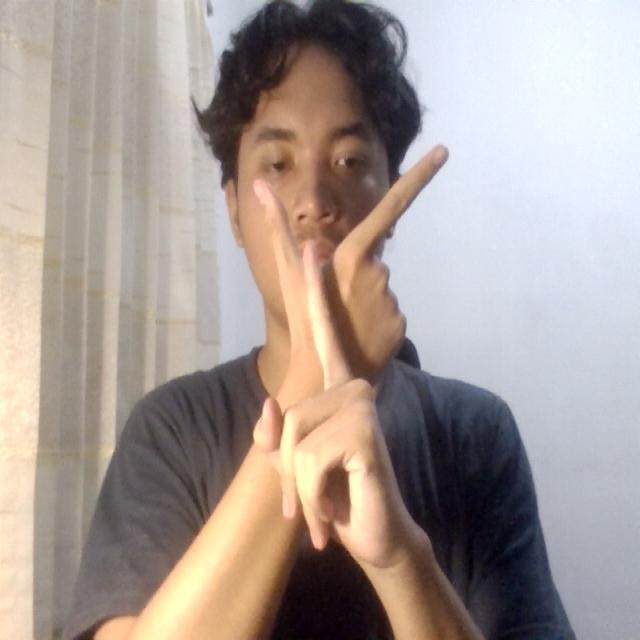No: (200, 132, 466, 556)
